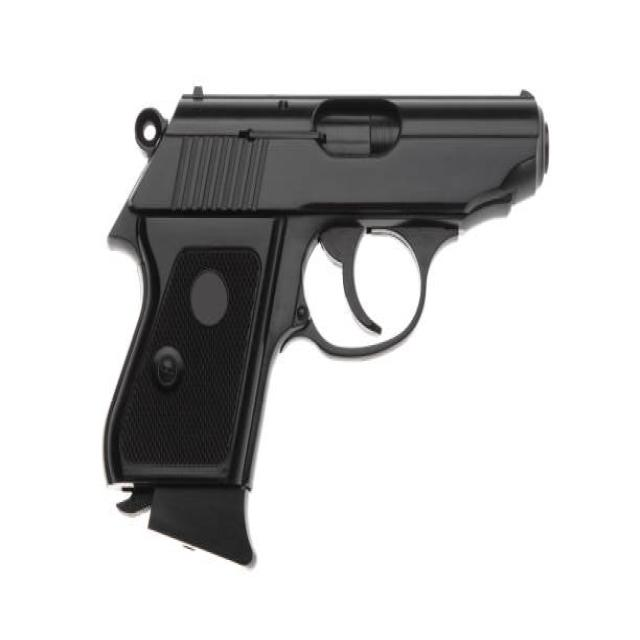pistol: (96, 81, 558, 566)
